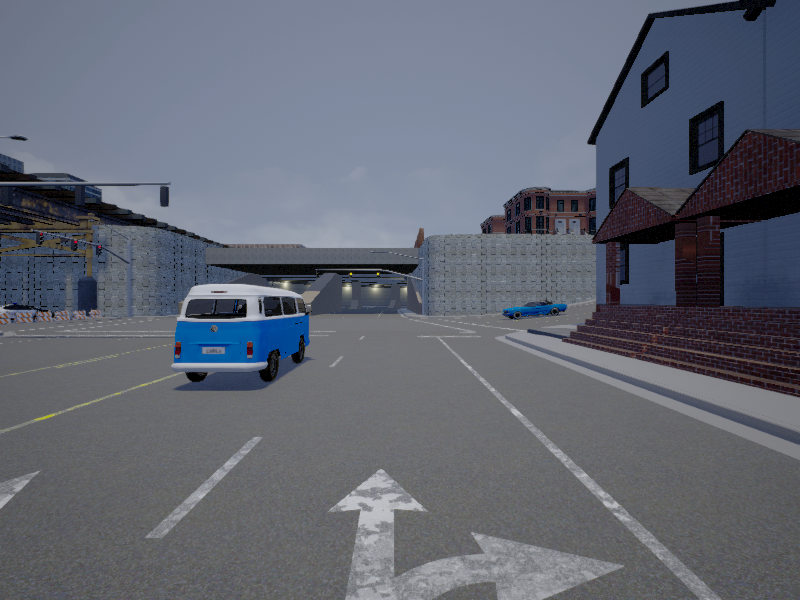Benign: (172, 283, 312, 385), (501, 299, 567, 320)
